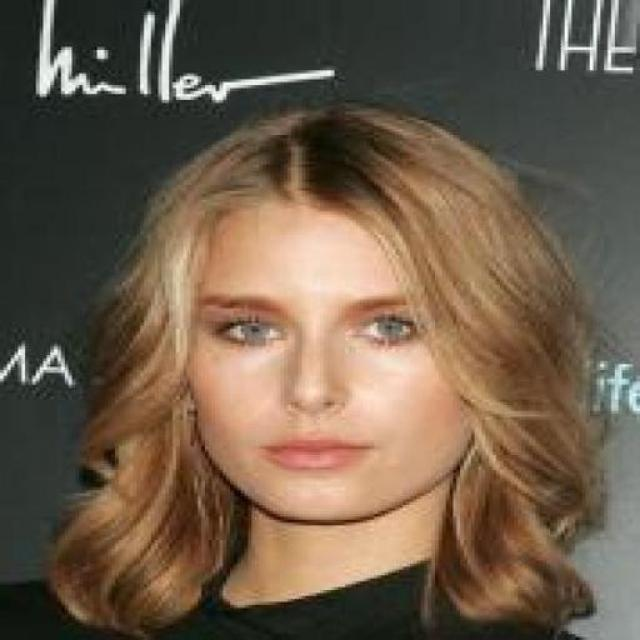bareface: (180, 163, 480, 516)
